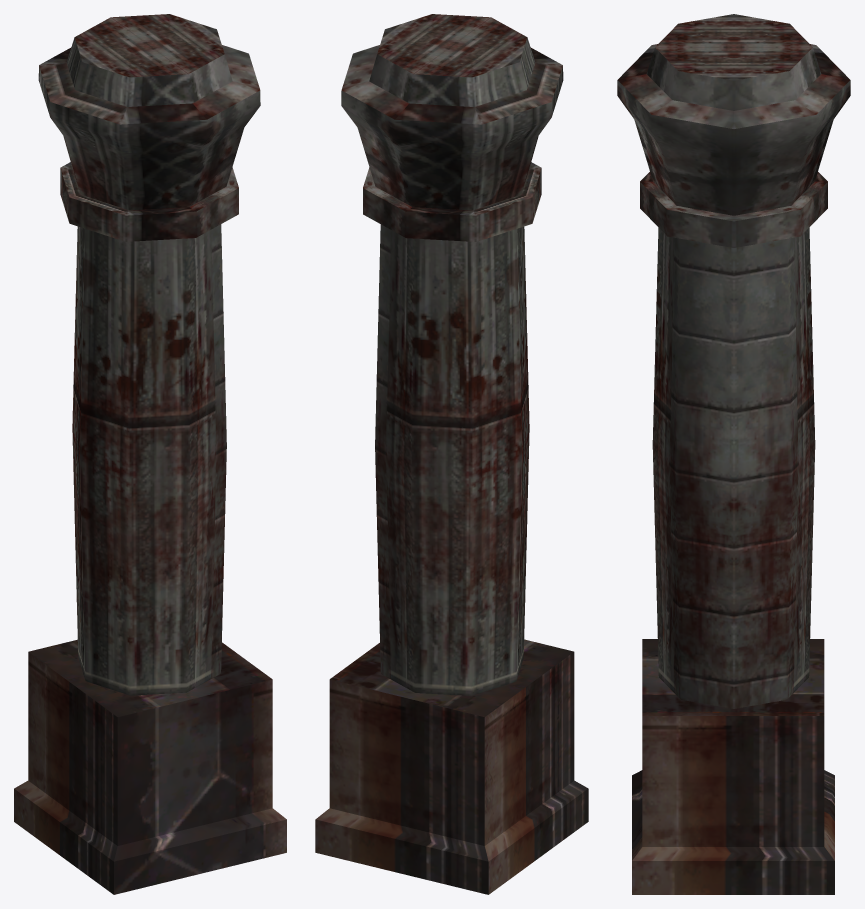
Rendered from blsd_zhuzi_01.FBX.
3 views of the same model, side by side, from view 1: azimuth 30°, elevation 25°; view 2: azimuth 150°, elevation 25°; view 3: azimuth 270°, elevation 25° (orthographic).
Parts seen in each view (by area): view 1: blsd_zhuzi_01; view 2: blsd_zhuzi_01; view 3: blsd_zhuzi_01.
Part boxes in pixels (x1=…): blsd_zhuzi_01: x1=14, y1=14, x2=286, y2=894; blsd_zhuzi_01: x1=315, y1=14, x2=588, y2=894; blsd_zhuzi_01: x1=617, y1=14, x2=850, y2=894.
Size of the model in its own units: 134 by 134 by 509.
